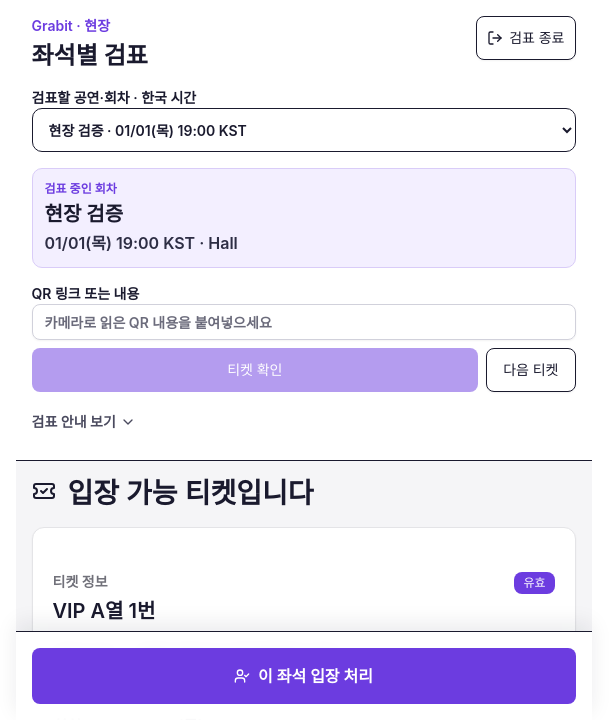
Test: FieldCheckInPage scan attempt identity › starts a new attempt for a re-scan of the same QR and for another showtime, and admits after the showtime change
The image size is (609, 720).
Click the button "이 좌석 입장 처리" at (304, 676), box [32, 648, 576, 704]
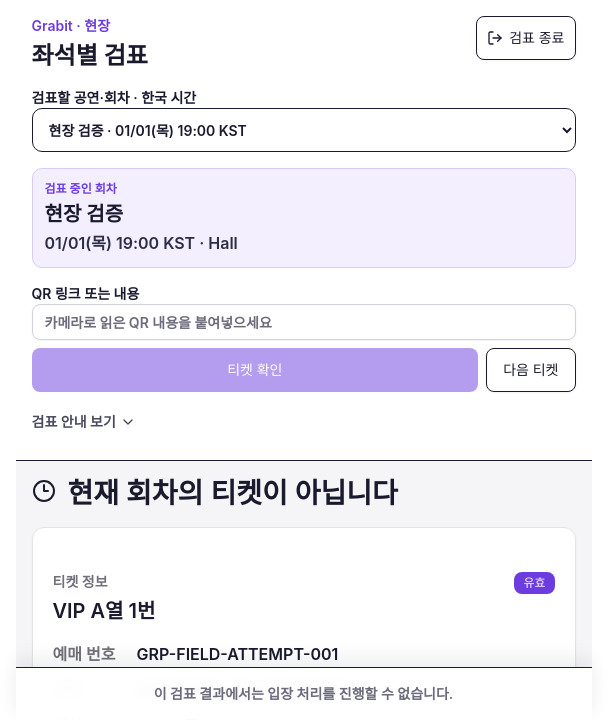
Result: the message "현재 회차의 티켓이 아닙니다" is shown at [32, 476, 398, 510]
# The same QR read again is a new scan.
Click the button "다음 티켓" at (531, 370), box [486, 348, 576, 392]
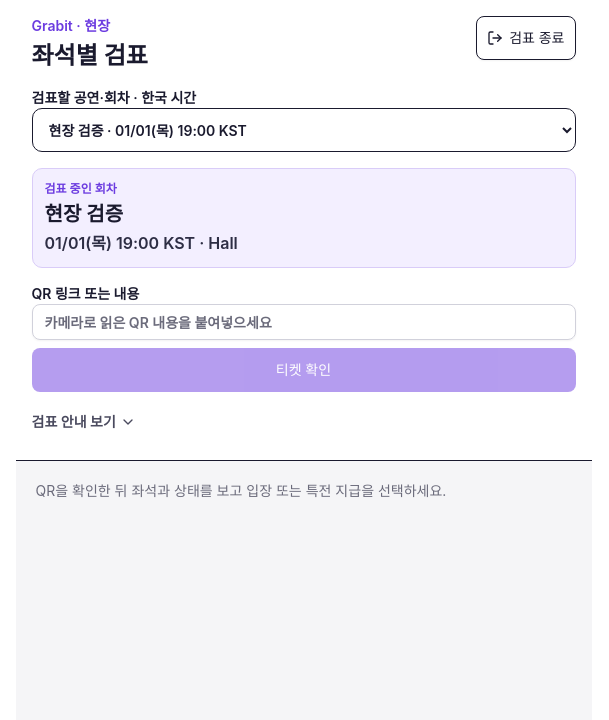
Type "raw-ticket-token-for-scan-attempt" into the password field labelled "QR 링크 또는 내용" at (304, 322), box [32, 304, 576, 340]
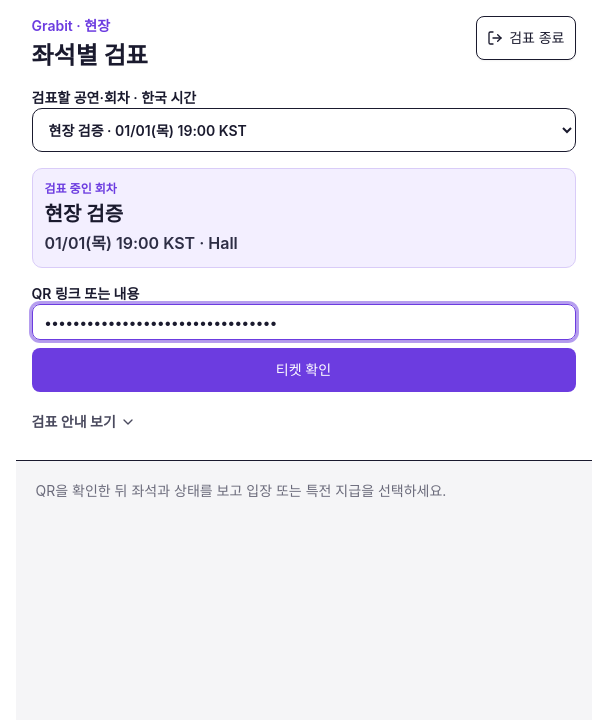
Click the button "티켓 확인" at (304, 370), box [32, 348, 576, 392]
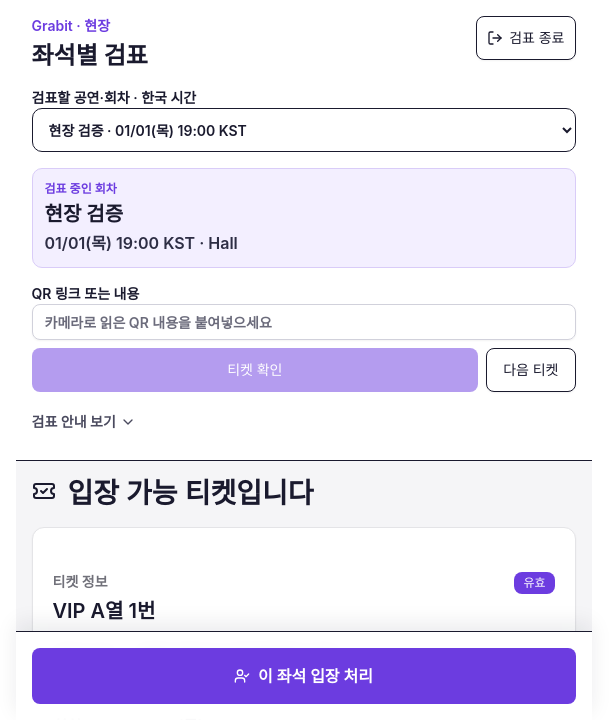
Result: the button "이 좌석 입장 처리" is shown at [32, 648, 576, 704]
Select "현장 검증 2회차 · 01/01(목) 23:00 KST" in the dropdown labelled "검표할 공연·회차" at (304, 130), box [32, 108, 576, 152]
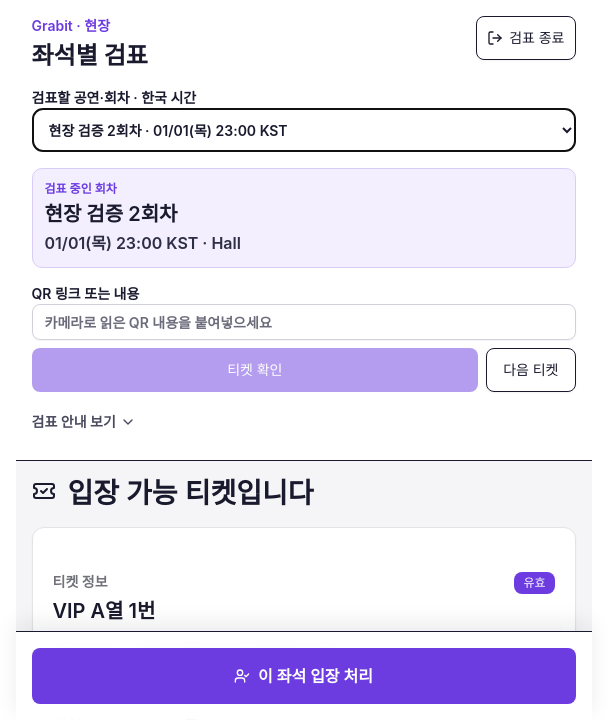
Click the button "이 좌석 입장 처리" at (304, 676), box [32, 648, 576, 704]
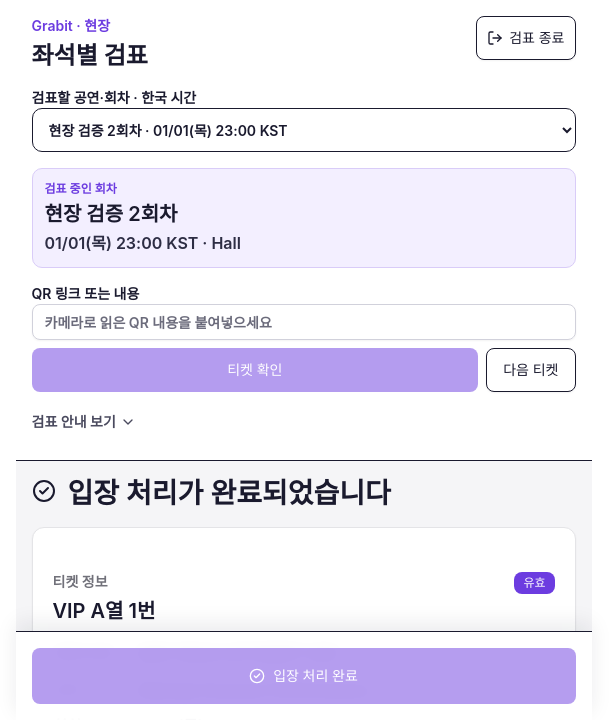
Result: the message "입장 처리가 완료되었습니다" is shown at [32, 476, 391, 510]
